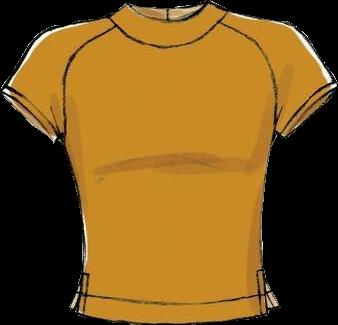Bodice: (62, 0, 278, 323)
Neckline: (110, 9, 226, 48), (78, 287, 272, 302), (127, 2, 209, 20)
Sleeve: (220, 12, 336, 138), (1, 17, 116, 143)
Sleeveline: (221, 21, 279, 135), (61, 26, 118, 139)
Waistline: (71, 300, 278, 324)
